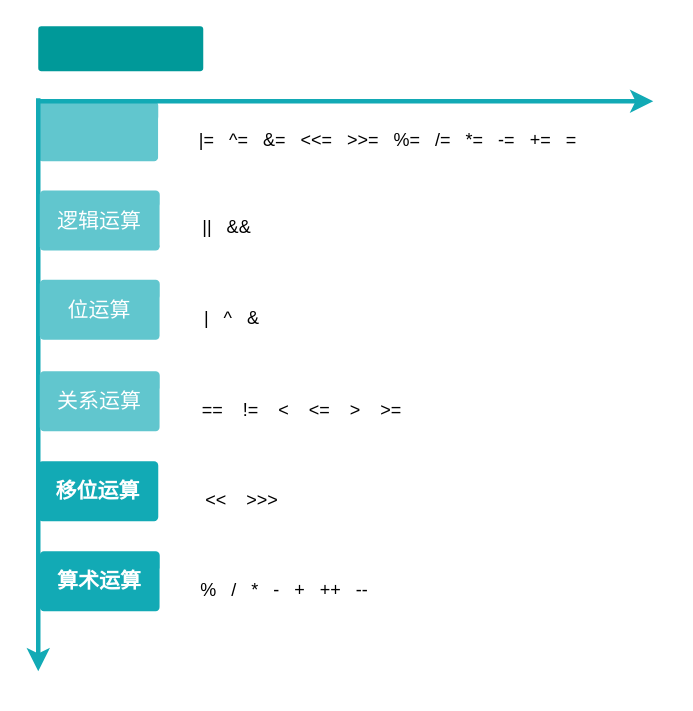
This 693x711 diagram has some shape labels left out. The centre of each missing label's shape, as x and y in pixels:
"优先级递增图" belongs at point 120,48.
"赋值运算" belongs at point 98,130.
